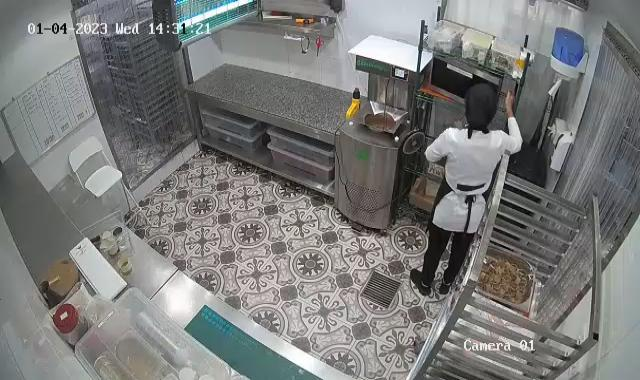no_hairnet: (466, 81, 500, 128)
